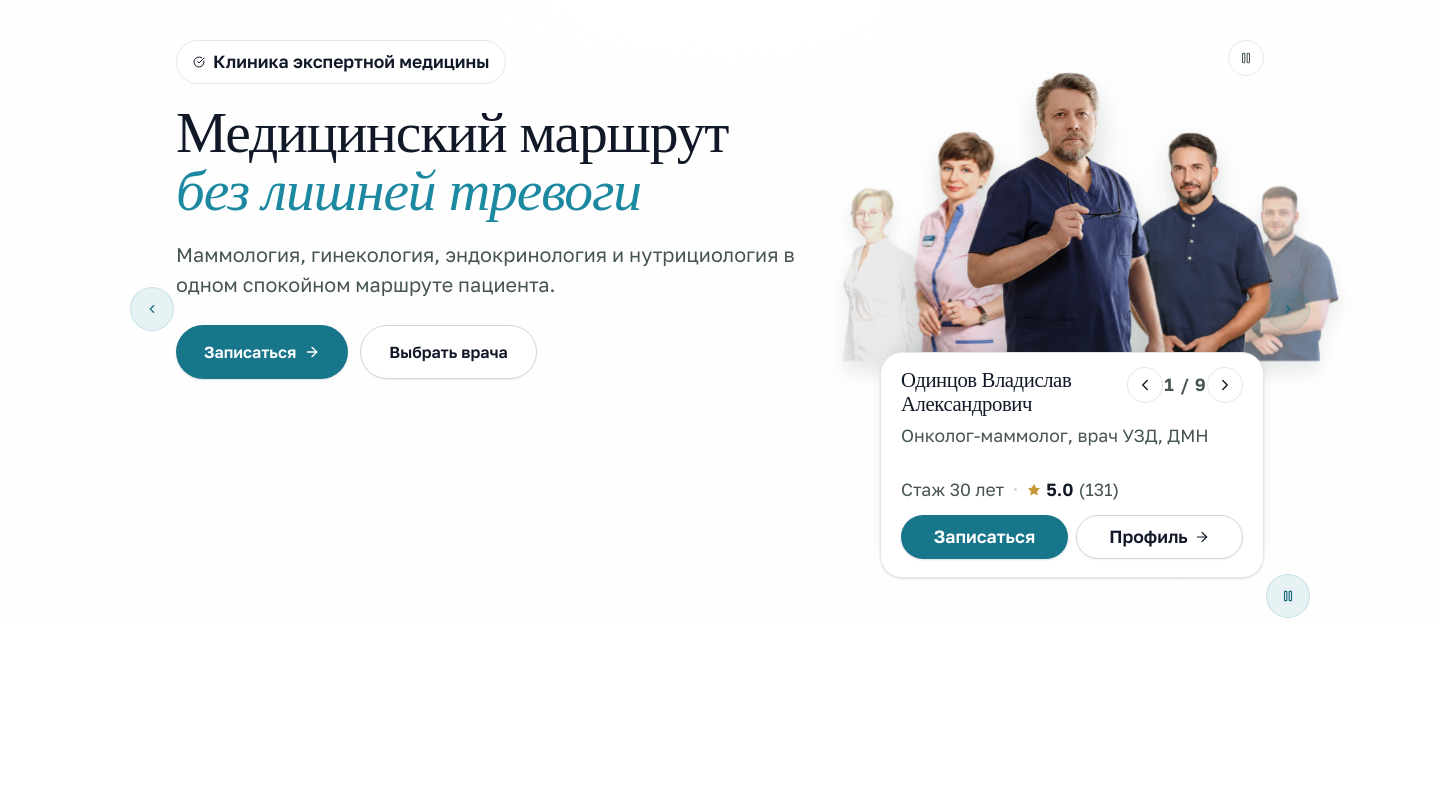
Test: HeroSlider doctor autoplay › keeps rotating doctors while the pointer rests on the slider
Hover over the element named "Главный слайдер" at (720, 309), box [0,0,1439,618]
Wait 4000 ms
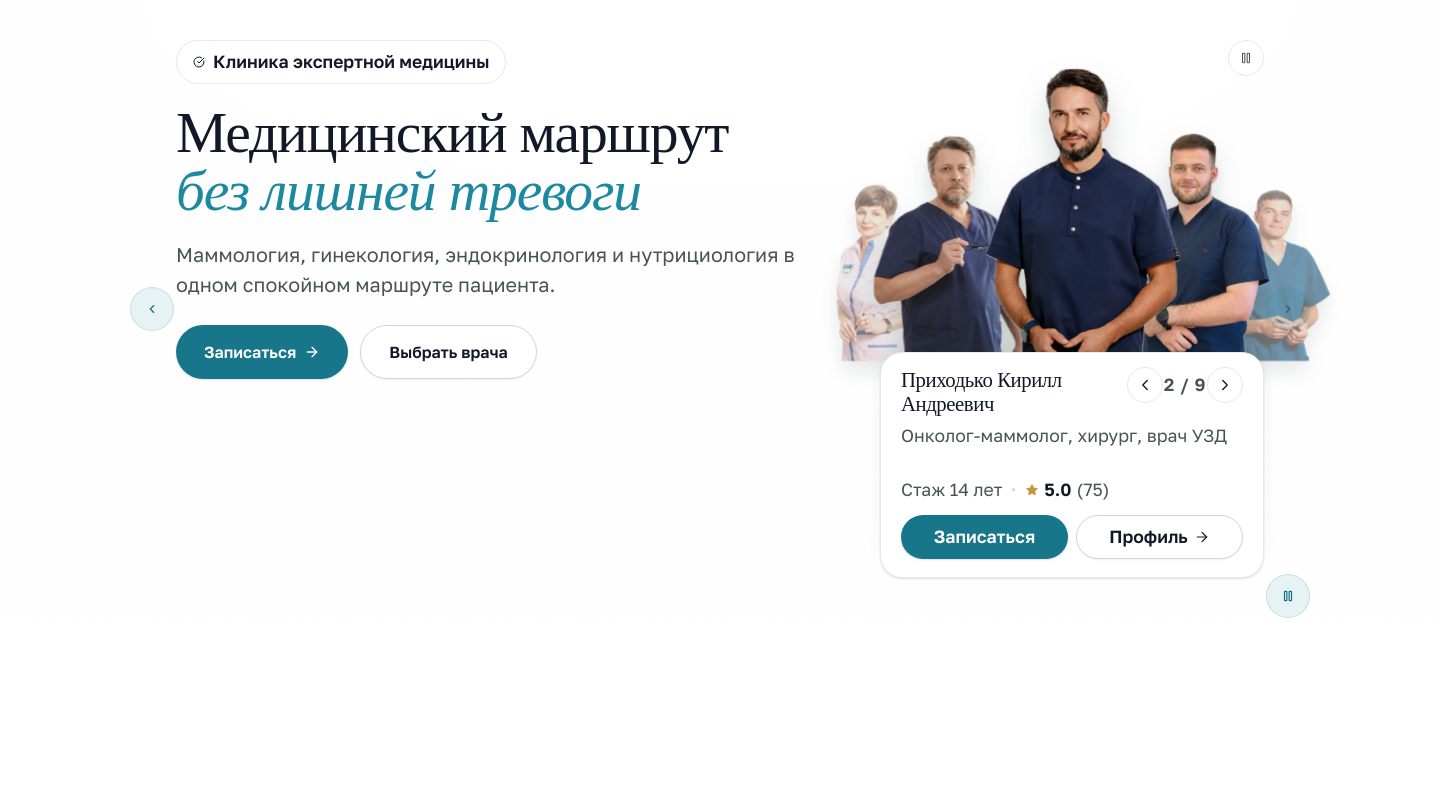
expect the text with class "mobile-doctor-carousel-count" reads "2 / 9": met, box [1163,372,1207,398]
